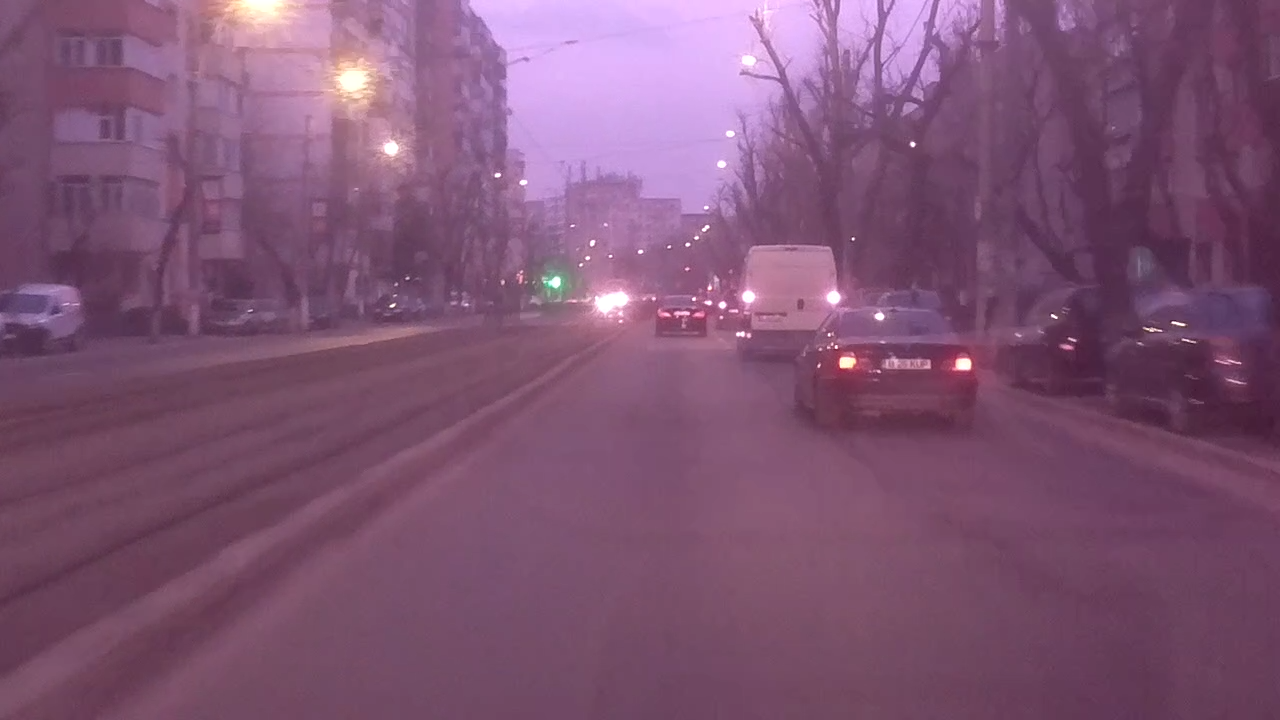license-plate: (880, 357, 933, 371)
